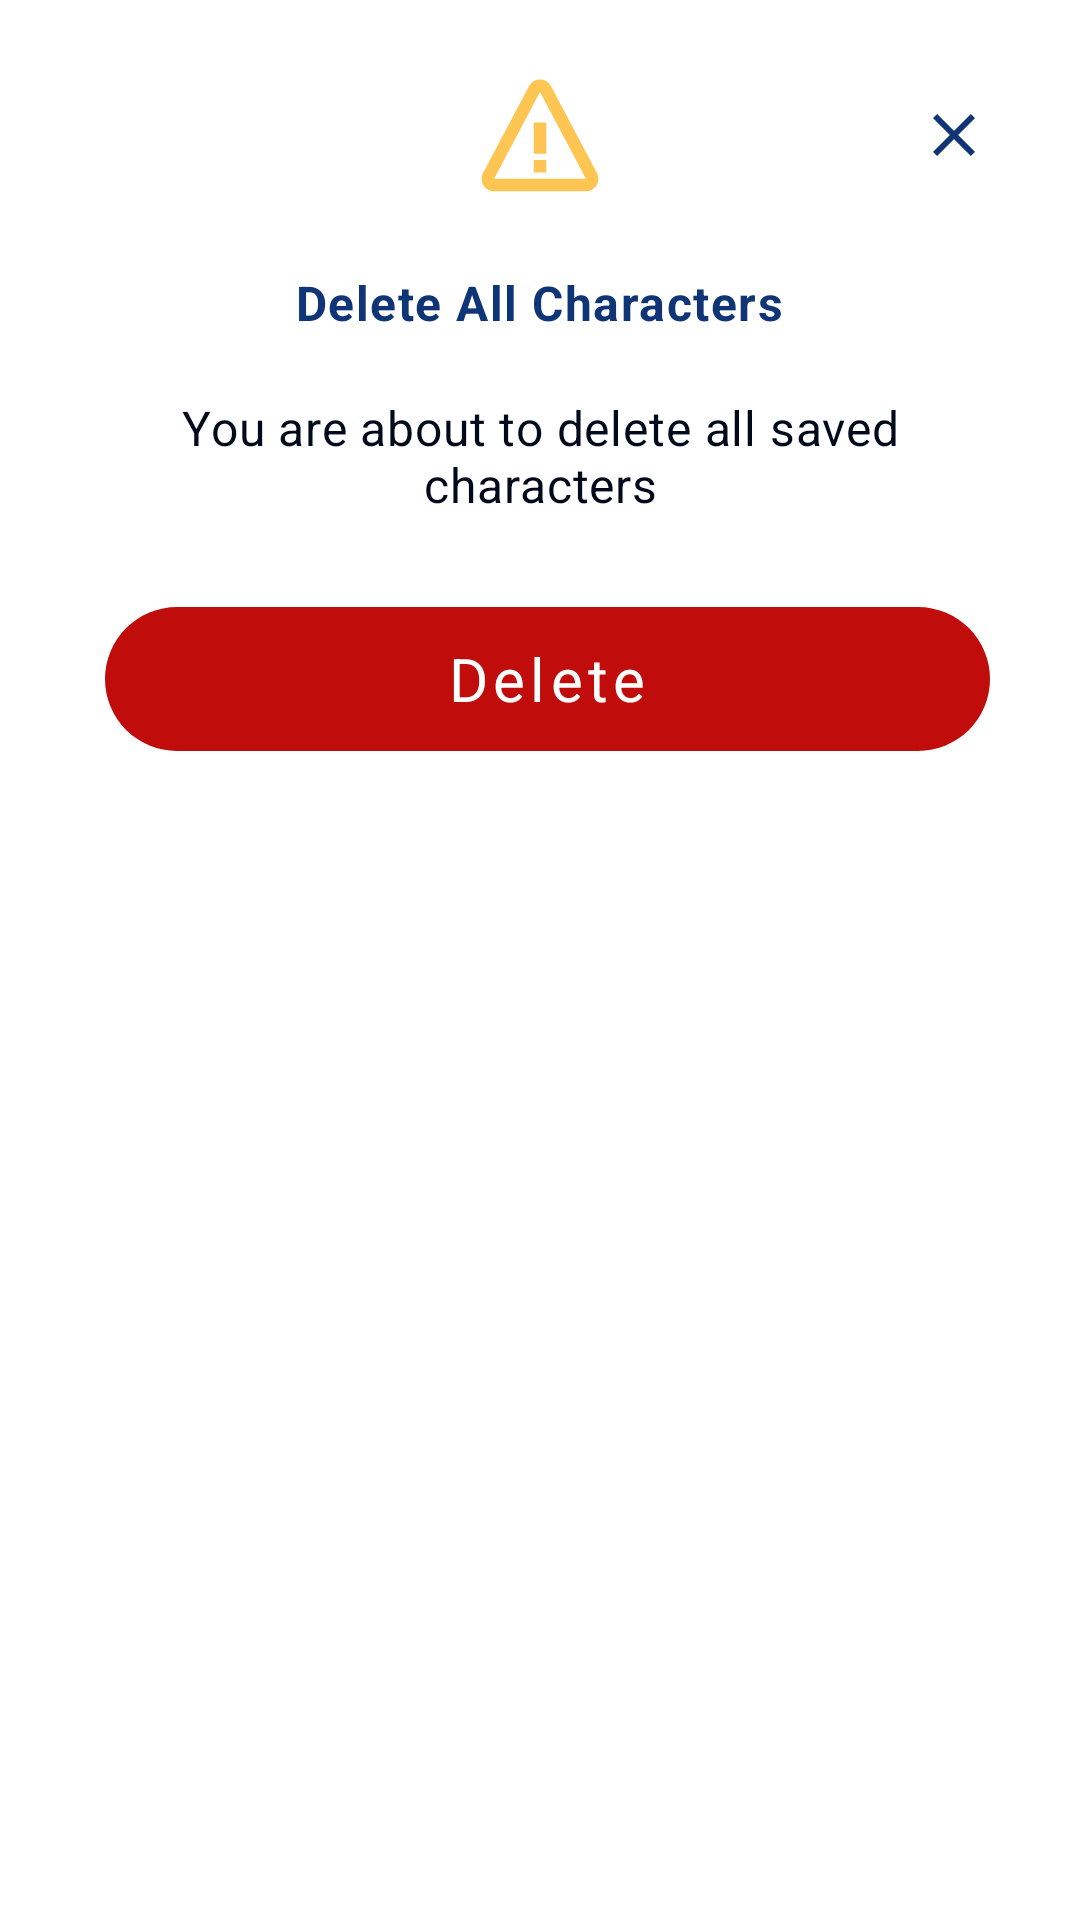

Point at icon controls on the screen. Image size 1080 × 1920, points as (x,y).
close: (954,135)
warning: (540,135)
